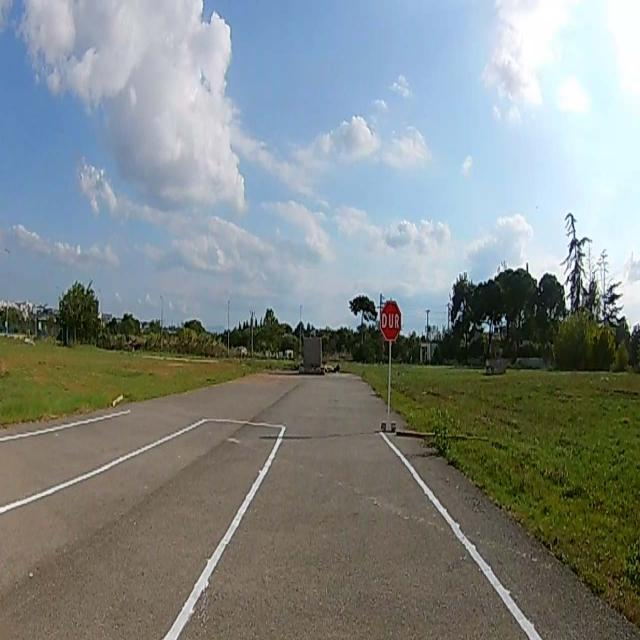dur: (382, 301, 402, 339)
